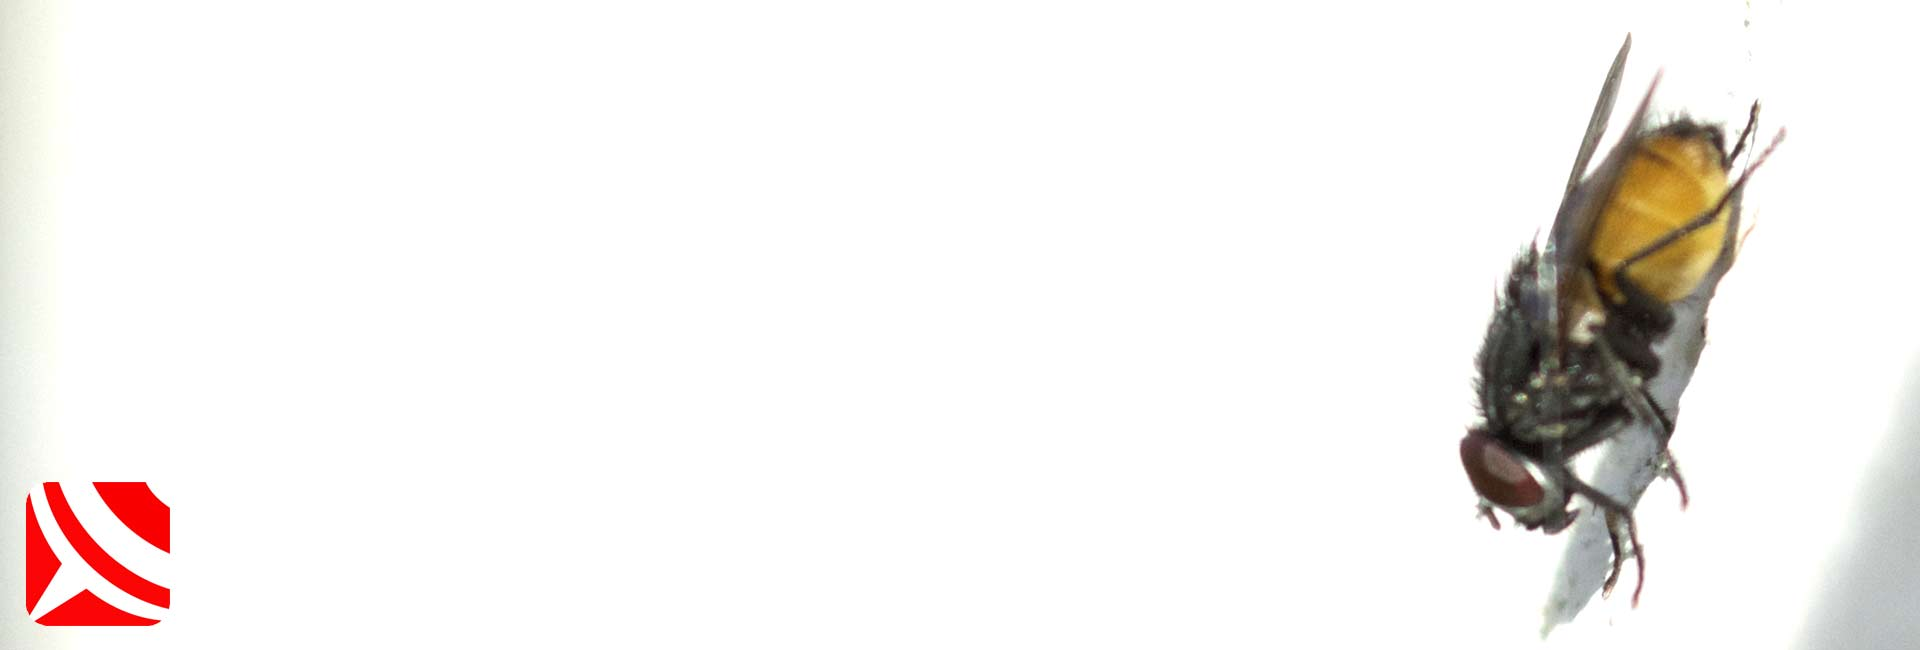house fly: (1332, 35, 1798, 650)
